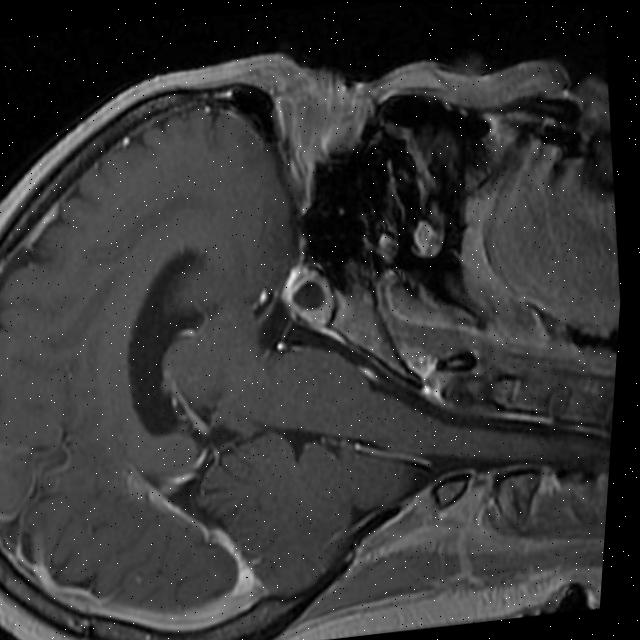Pituitary: (276, 266, 338, 328)
